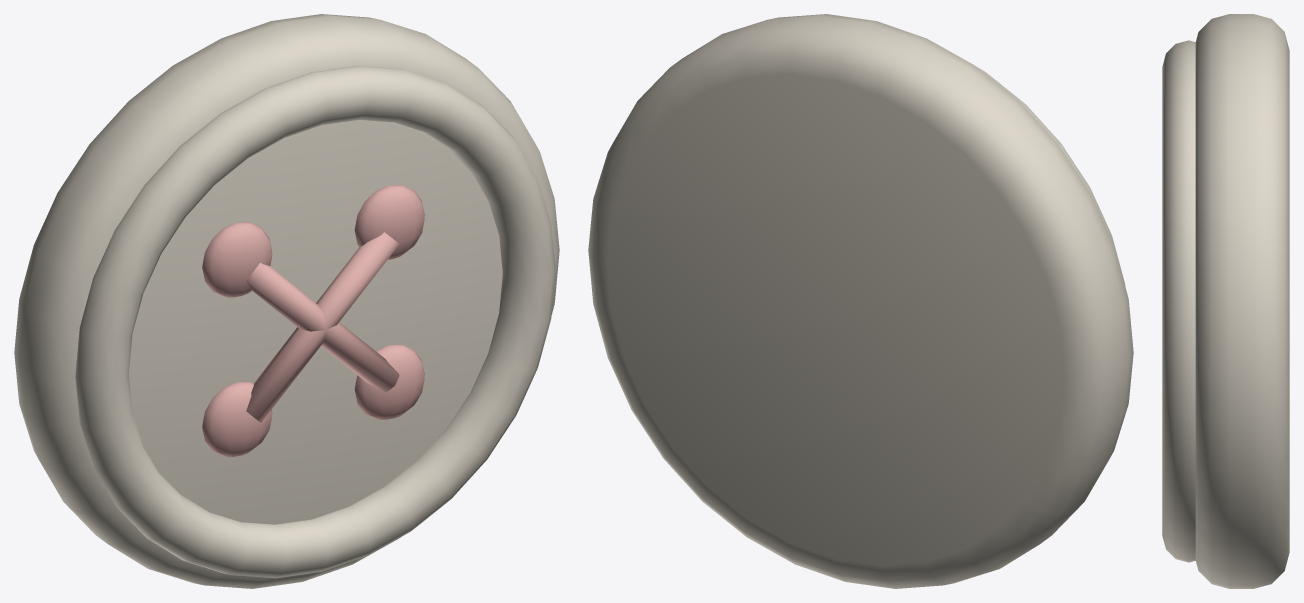
File: button_knit.fbx
3 views of the same model, side by side, from view 1: azimuth 30°, elevation 25°; view 2: azimuth 150°, elevation 25°; view 3: azimuth 270°, elevation 25° (orthographic). The views are drawn at different scales.
Visible parts, largest first — view 1: Button_Body, Button_Rim, Button_ThreadX, Button_ThreadY, Button_Hole_0, Button_Hole_2, Button_Hole_1, Button_Hole_3; view 2: Button_Body; view 3: Button_Body, Button_Rim.
Boxes of the visible parts, x1=… form: Button_Body: x1=14, y1=14, x2=559, y2=588; Button_Rim: x1=75, y1=66, x2=555, y2=578; Button_ThreadX: x1=246, y1=232, x2=399, y2=422; Button_ThreadY: x1=246, y1=262, x2=399, y2=392; Button_Hole_0: x1=202, y1=222, x2=272, y2=297; Button_Hole_2: x1=202, y1=381, x2=272, y2=456; Button_Hole_1: x1=354, y1=185, x2=424, y2=259; Button_Hole_3: x1=354, y1=344, x2=424, y2=419; Button_Body: x1=588, y1=14, x2=1133, y2=588; Button_Body: x1=1195, y1=14, x2=1289, y2=588; Button_Rim: x1=1162, y1=40, x2=1195, y2=562.
Size of the model in its own units: 0.024 by 0.024 by 0.0053.
